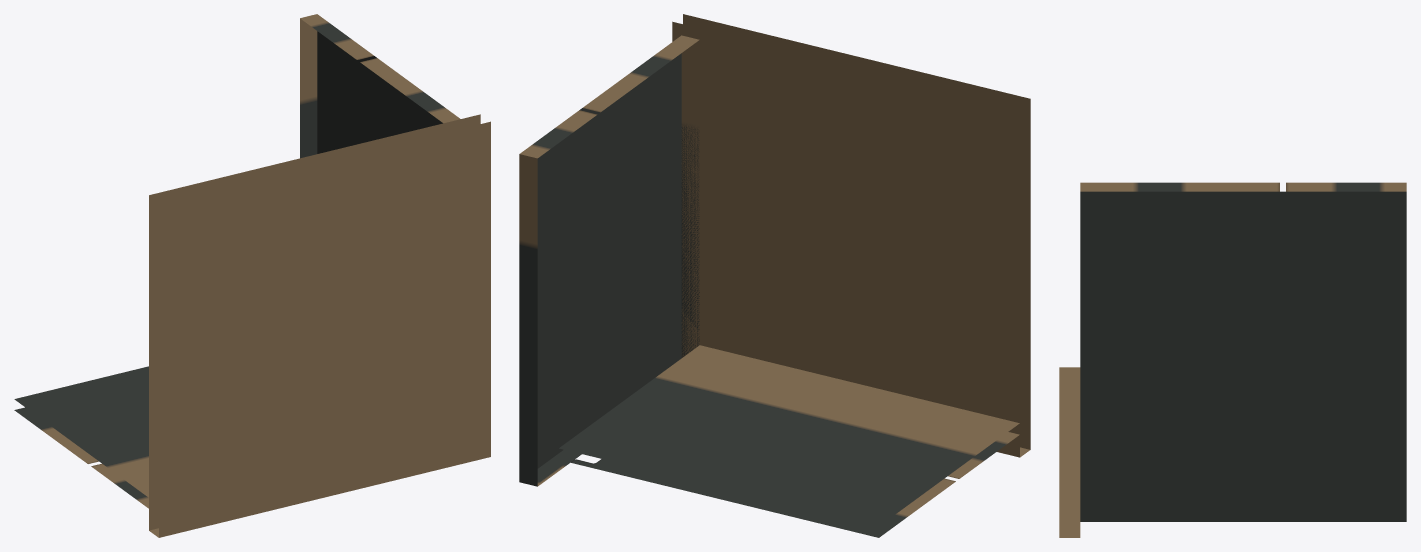
File: section-5.obj
The picture shows the model from 3 angles, left to right: view 1: azimuth 30°, elevation 25°; view 2: azimuth 150°, elevation 25°; view 3: azimuth 270°, elevation 25°; orthographic projection. The views are drawn at different scales.
Size of the model in its own units: 0.953 by 0.92 by 0.82.
